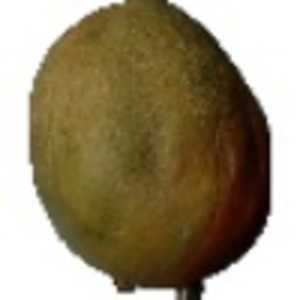mamão: (18, 2, 281, 289)
